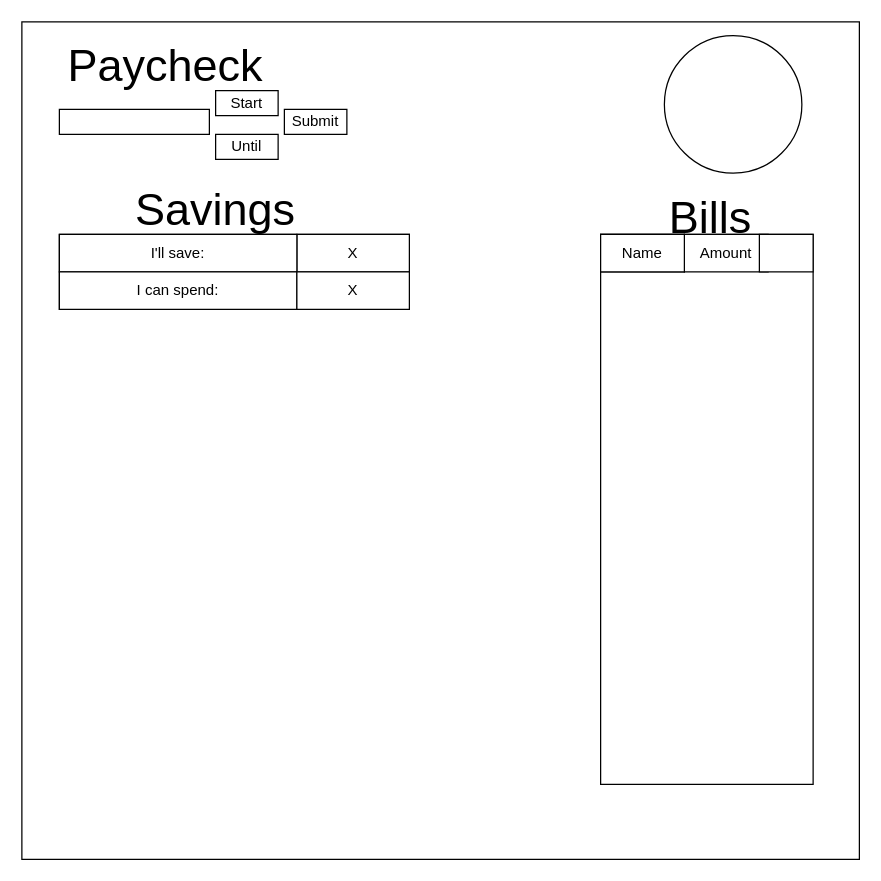
Image size: 881x881. Some labels were removed from this diagram. The centre of each missing label's shape, as x and y in pixels:
Day: the point at 785,252
Input: the point at 133,121
Leftover money circle: the point at 732,103
